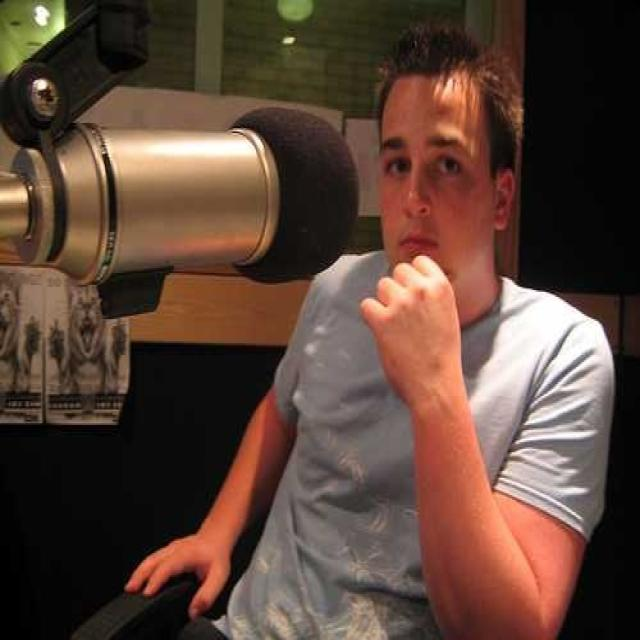microphone: (13, 81, 366, 344)
